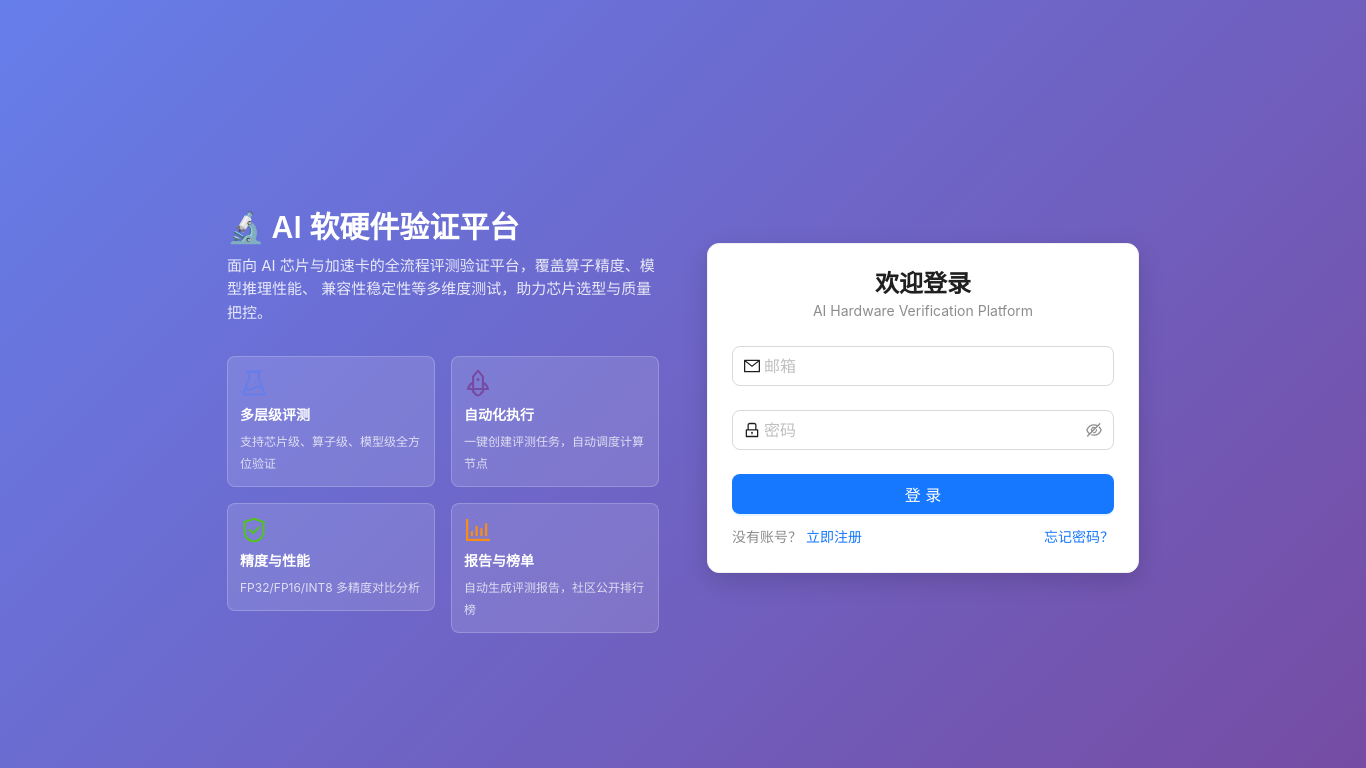
Test: Login Page › shows validation error when email is empty
The width and height of the screenshot is (1366, 768).
Click the button "登 录". click: (923, 494)
box: [732,474,1114,514]
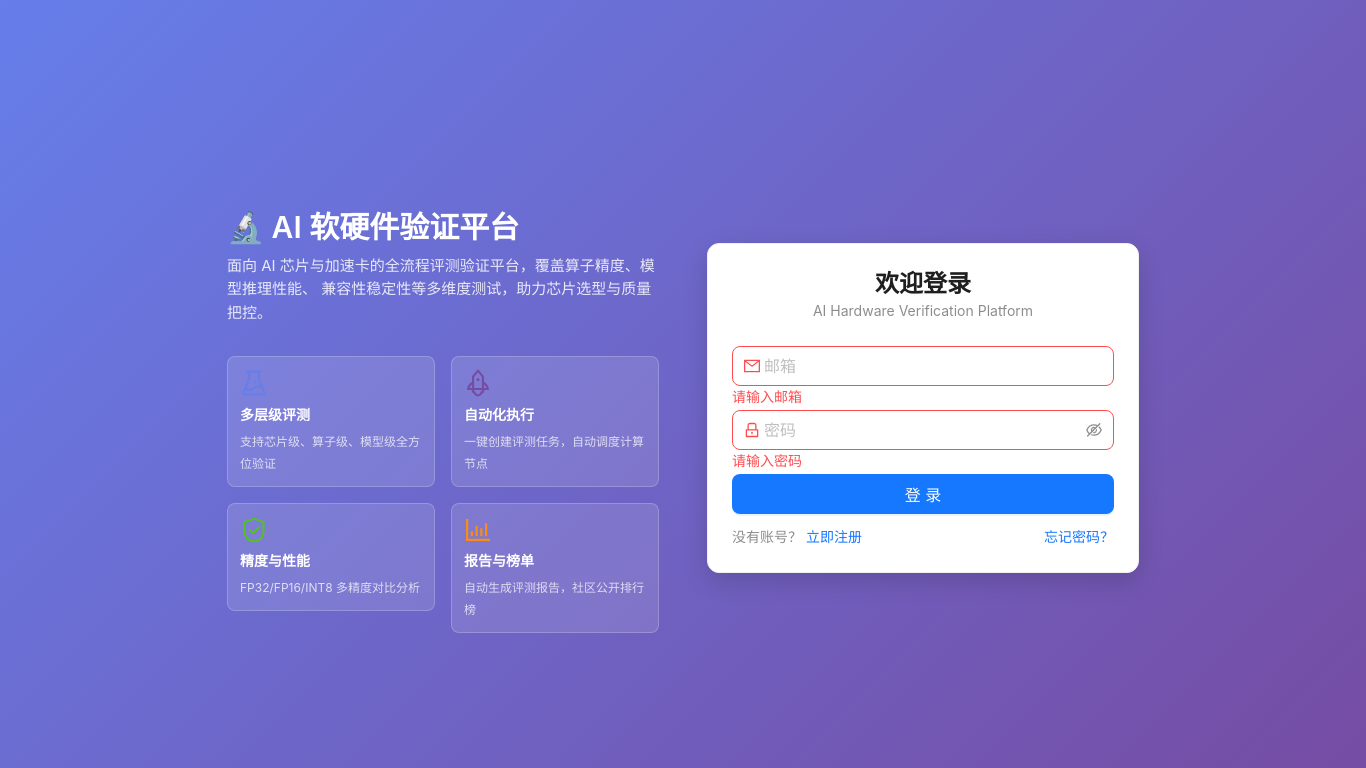
Expected: the text "请输入邮箱" is shown, [732,388,802,405]
